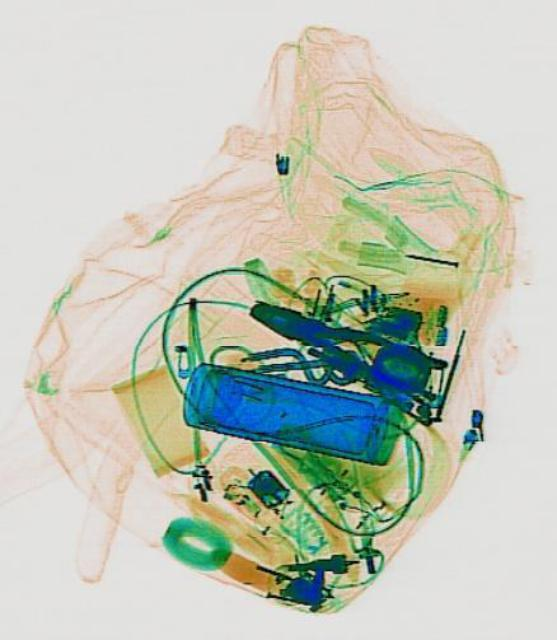Pliers: (240, 284, 445, 402)
